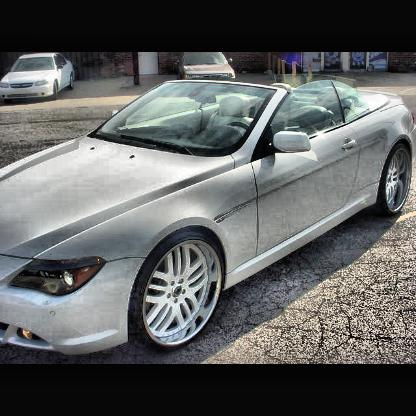BMW M6 Convertible 2010: (4, 80, 414, 360)
